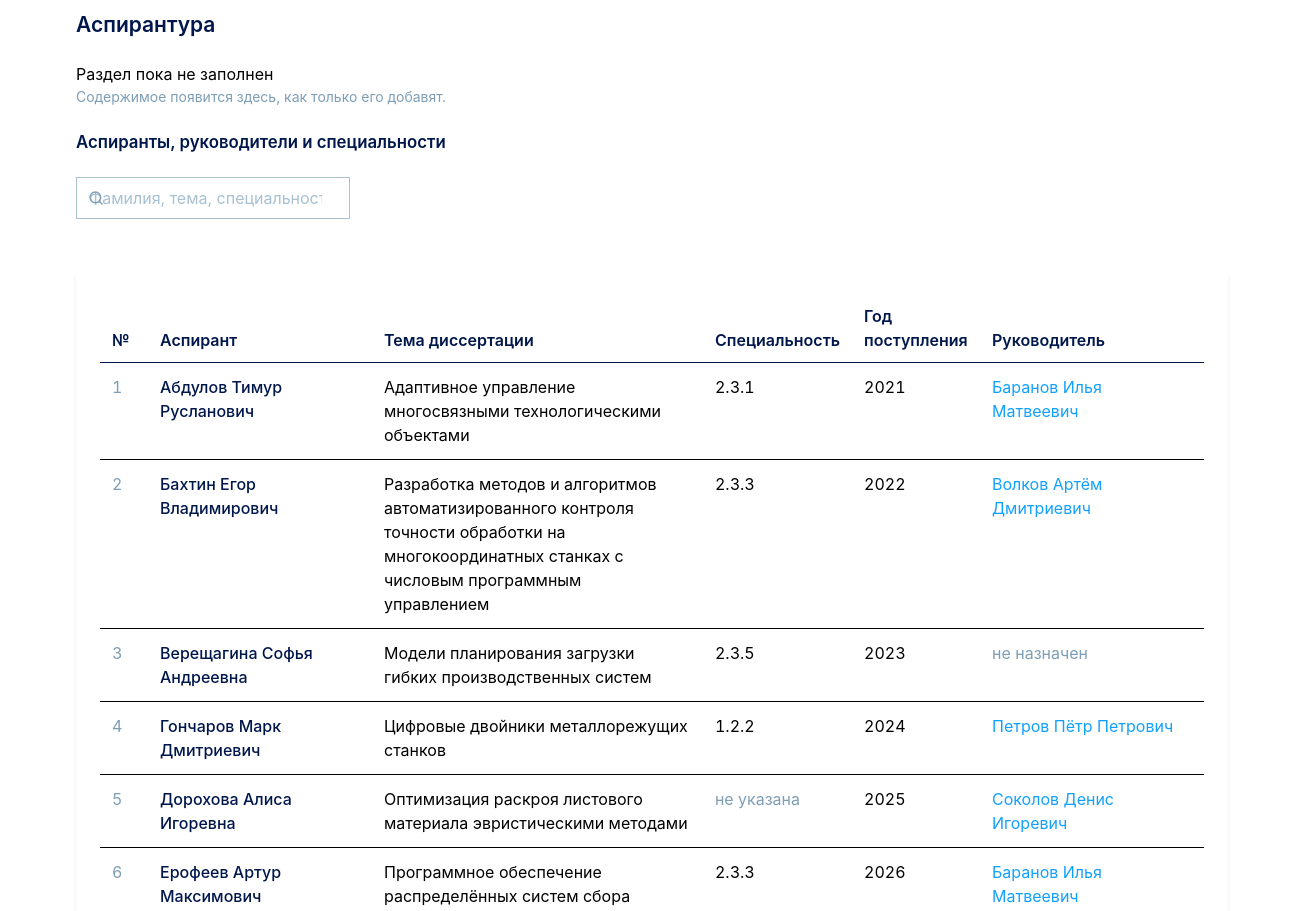
it: PostgraduatePage › находит по руководителю и по году поступления
Expected: the column heading "Абдулов Тимур Русланович" is shown, [148, 363, 372, 460]
Type "соколов денис" into the search field named "Поиск по таблице аспирантов" at (213, 198), box [76, 177, 350, 219]
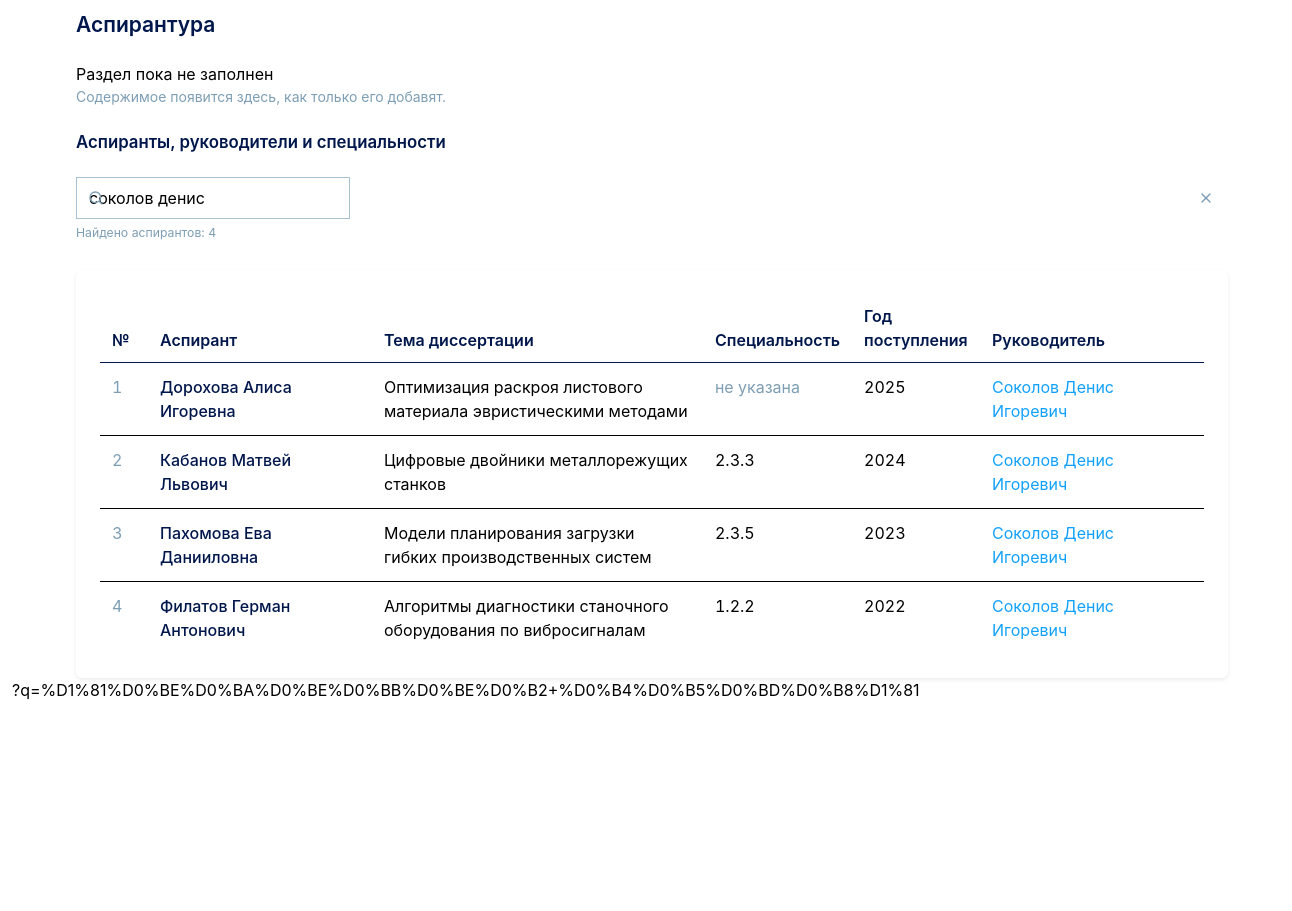
Expected: the link "Соколов Денис Игоревич" in the row of "Дорохова Алиса Игоревна" is shown, [992, 377, 1114, 421]
Now the text "Найдено аспирантов: 4" is shown, box [76, 225, 216, 240]
Replace the text in the search field named "Поиск по таблице аспирантов" with "2026" at (213, 198), box [76, 177, 350, 219]
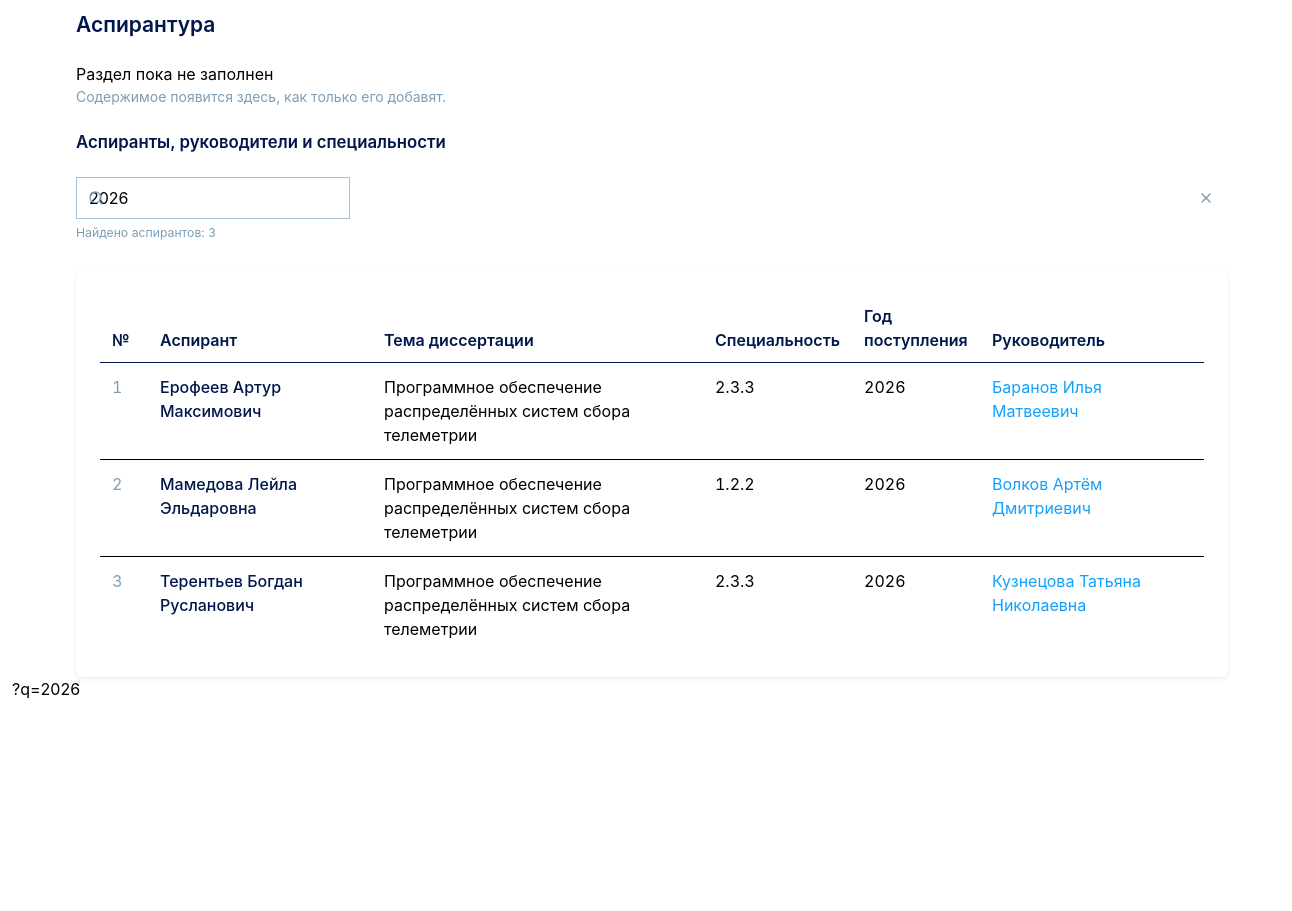
Now the text "Найдено аспирантов: 3" is shown, box [76, 225, 216, 240]
